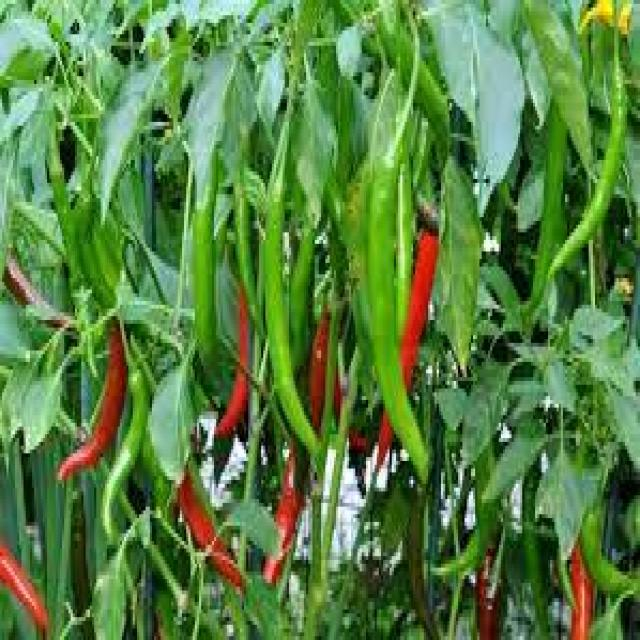sehat: (473, 24, 526, 209), (150, 365, 202, 495), (18, 358, 64, 462)
